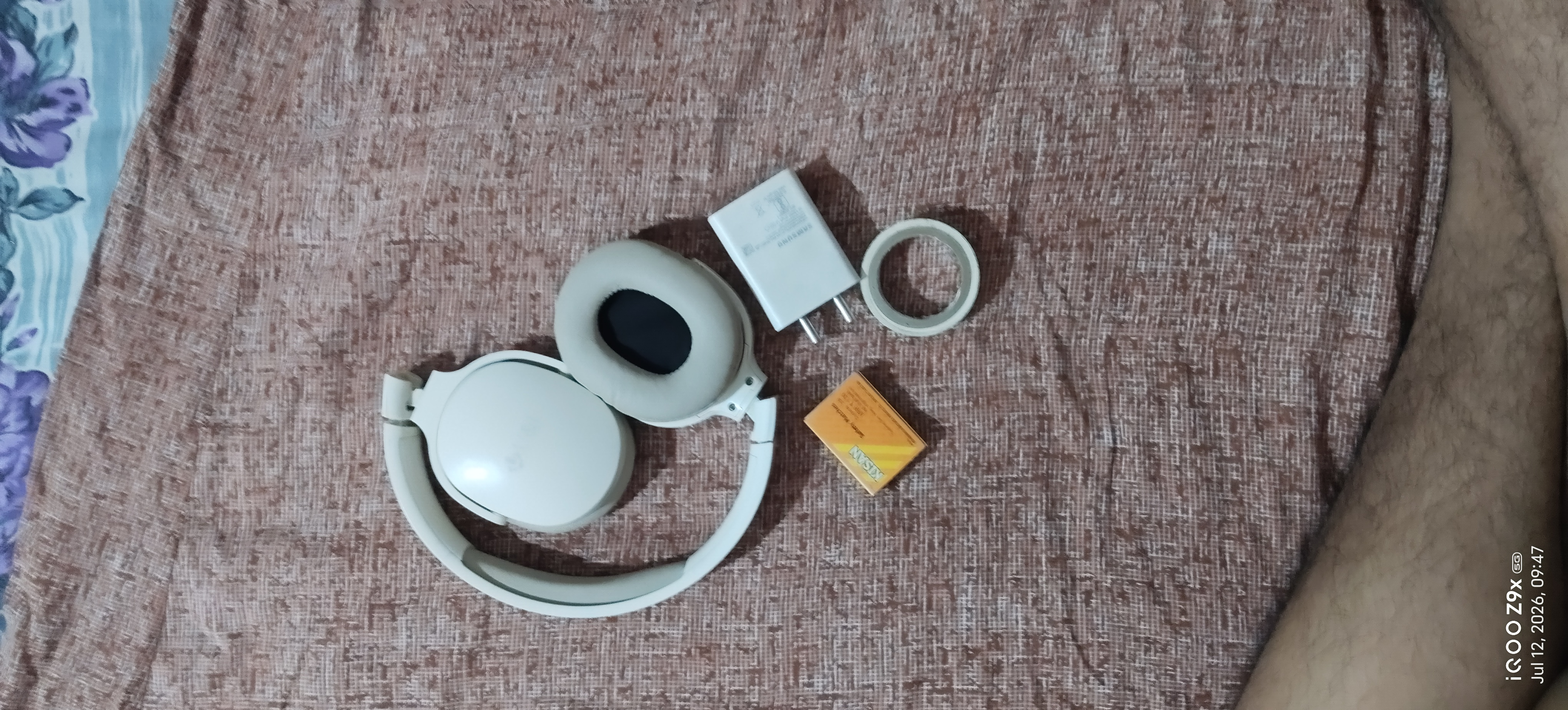charger: (702, 158, 864, 349)
matchbox: (794, 370, 933, 501)
tape_roll: (854, 216, 983, 345)
